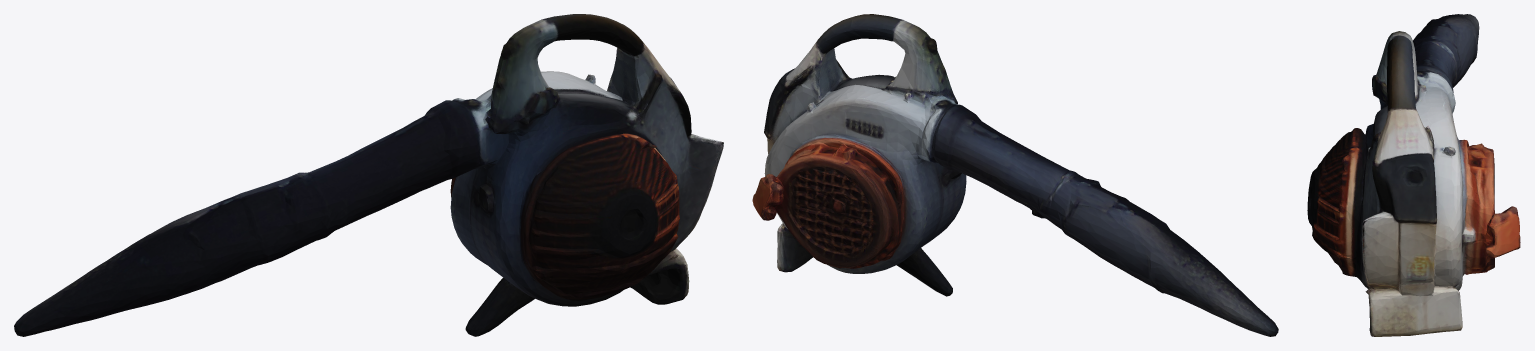
Rendered from souffleur.glb.
The picture shows the model from 3 angles, left to right: view 1: azimuth 30°, elevation 25°; view 2: azimuth 150°, elevation 25°; view 3: azimuth 270°, elevation 25°; orthographic projection. The views are drawn at different scales.
Visible parts, largest first — view 1: modele; view 2: modele; view 3: modele.
Part boxes in pixels (x1,y1,x2,y2): modele: (14, 14, 723, 336); modele: (752, 14, 1278, 336); modele: (1307, 14, 1520, 336).
Size of the model in its own units: 0.95 by 0.4295 by 0.3206.
Materials: 1 (1 with a texture image).
